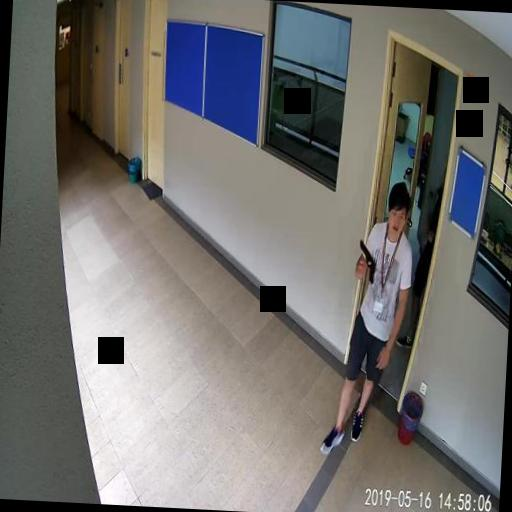Handgun: (356, 240, 376, 284)
